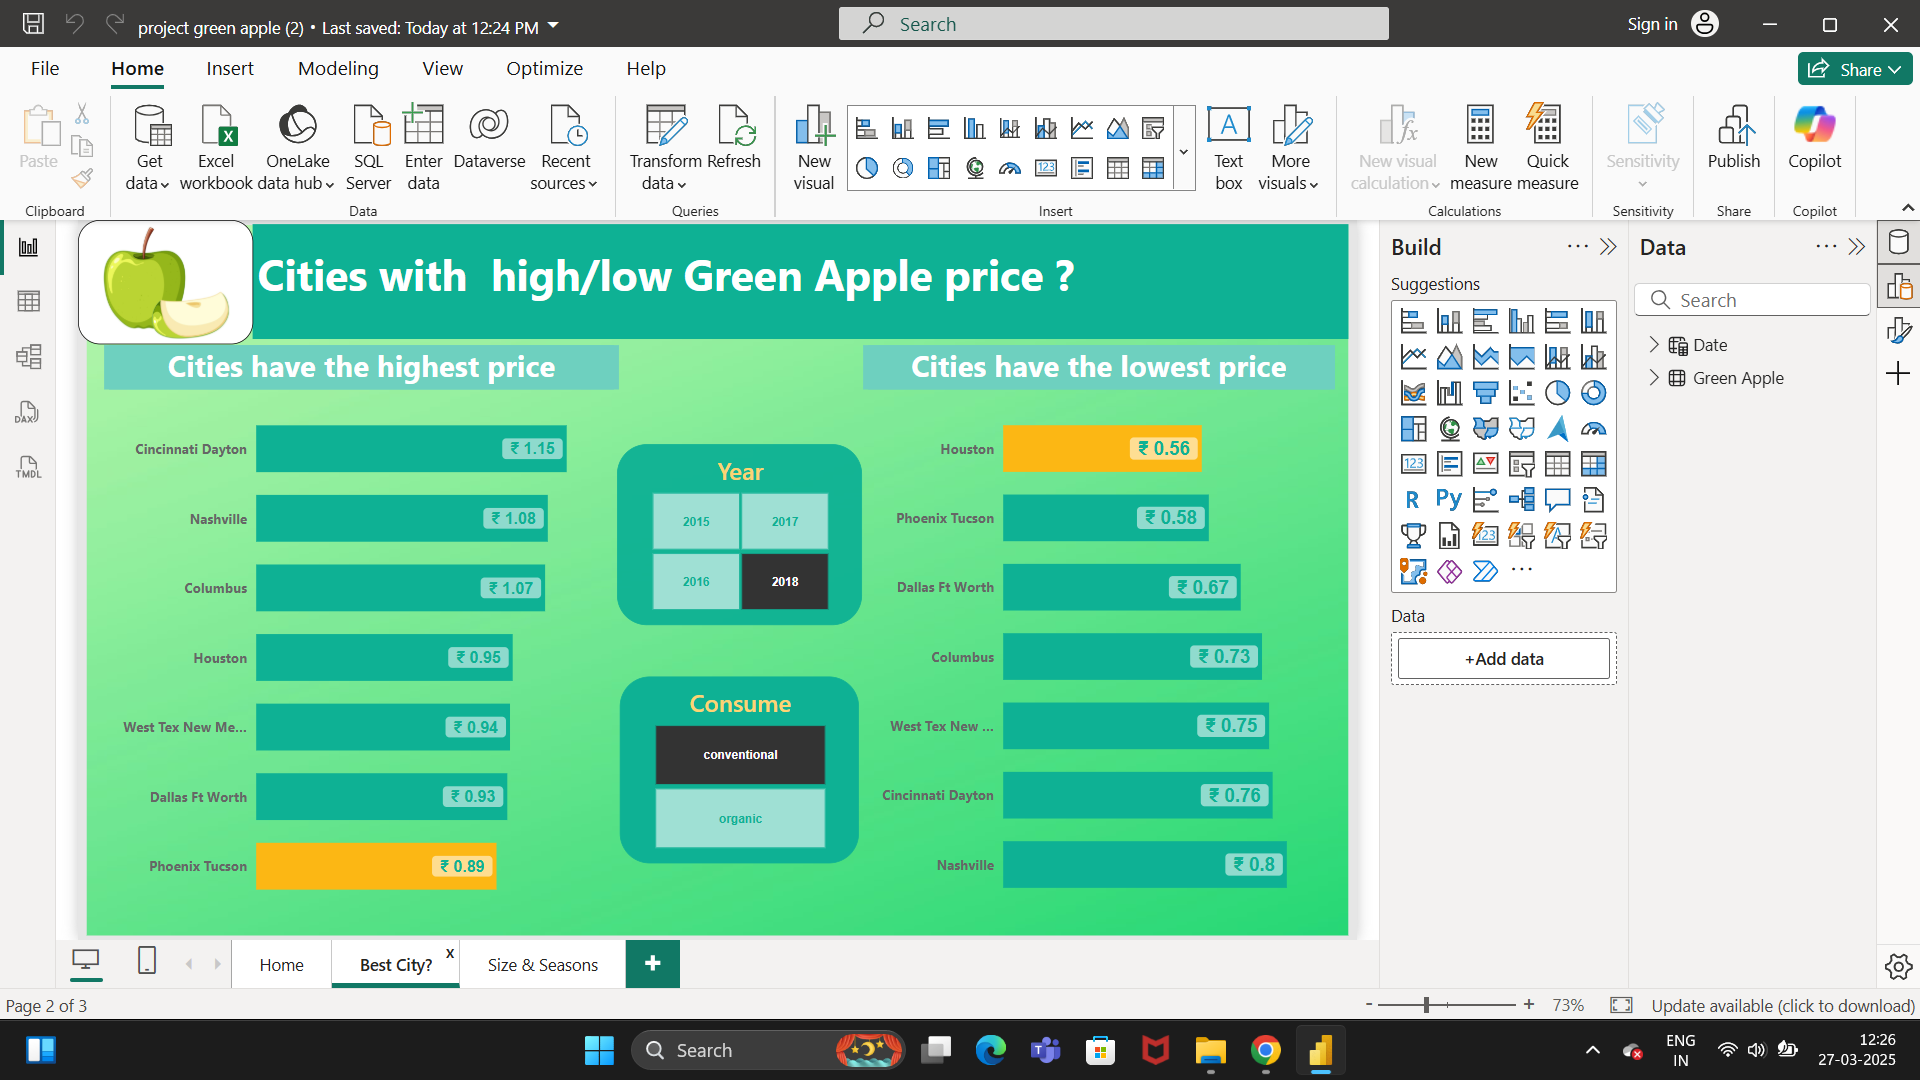

What the dashboard file says about the page in this screenshot:
{"tool":"powerbi","page":{"name":"Best City?","canvas":[1280,720],"ordinal":1},"visuals":[{"type":"image","box":[0,0,1279.2,720.8],"z":0},{"type":"textbox","box":[175.3,4.7,1095.8,115.3],"z":1000},{"type":"barChart","title":"Cities have the highest price ","fields":{"Category":["avocado.region"],"Y":["Date.max_price"]},"box":[26.4,124.5,515.1,579.2],"z":2000},{"type":"barChart","title":" Cities have the lowest price","fields":{"Category":["avocado.region"],"Y":["avocado.Min_price"]},"box":[784.9,124.5,471.7,577.4],"z":3000},{"type":"slicer","title":"Year","fields":{"Values":["Date.Calendar.Year"]},"box":[539.6,224.5,245.3,181.1],"z":4000},{"type":"slicer","title":" Consume","fields":{"Values":["avocado.type"]},"box":[541.5,456.6,239.6,186.8],"z":5000},{"type":"image","box":[0,0,175.5,124.5],"z":6000}]}

Visuals, with their boxes on the page's 1280x720 design canvas (x1, y1, x2, y2). These are canvas units, not pixel positions in the 1920x1080 screenshot, which may show the page scaled, cropped or inside an application window:
image: [0,0,1279,721]
textbox: [175,5,1271,120]
"Cities have the highest price " barChart: [26,124,542,704]
" Cities have the lowest price" barChart: [785,124,1257,702]
"Year" slicer: [540,224,785,406]
" Consume" slicer: [542,457,781,643]
image: [0,0,176,124]
